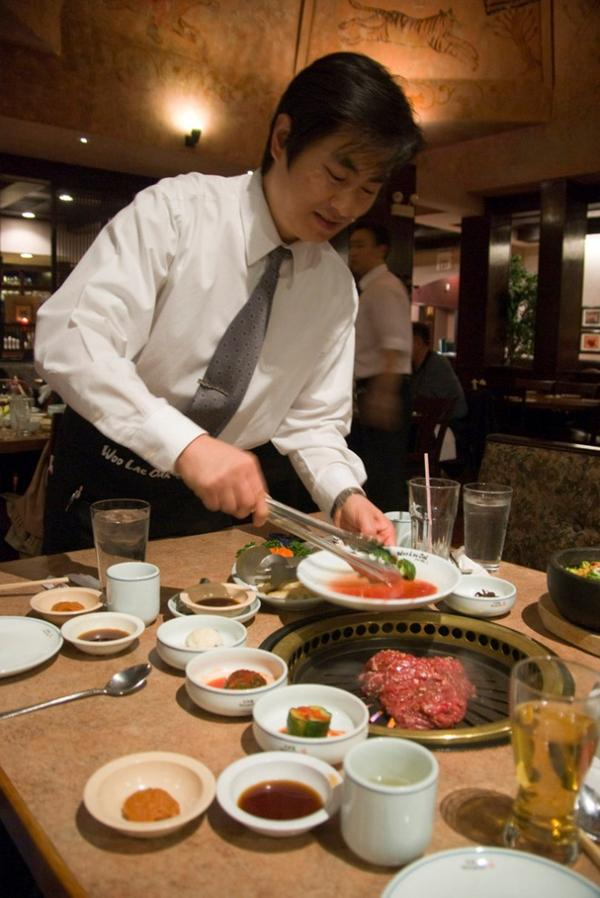person: (37, 52, 406, 550)
